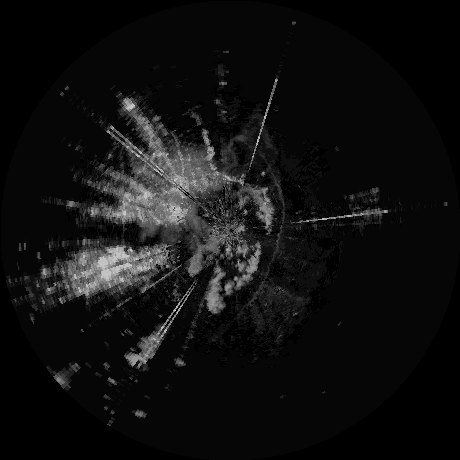frontgust: (273, 175, 288, 260), (257, 263, 272, 298)
